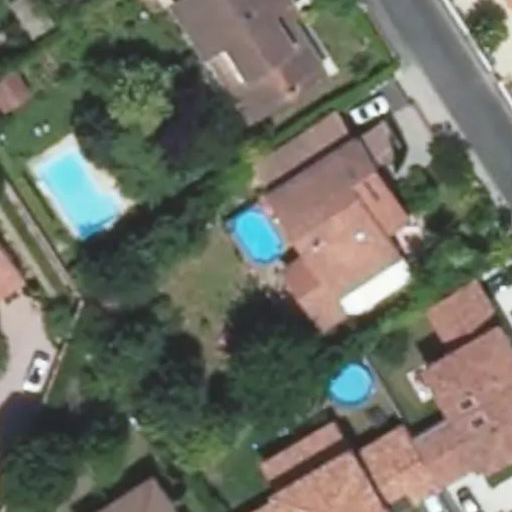pool: (229, 227, 282, 256)
